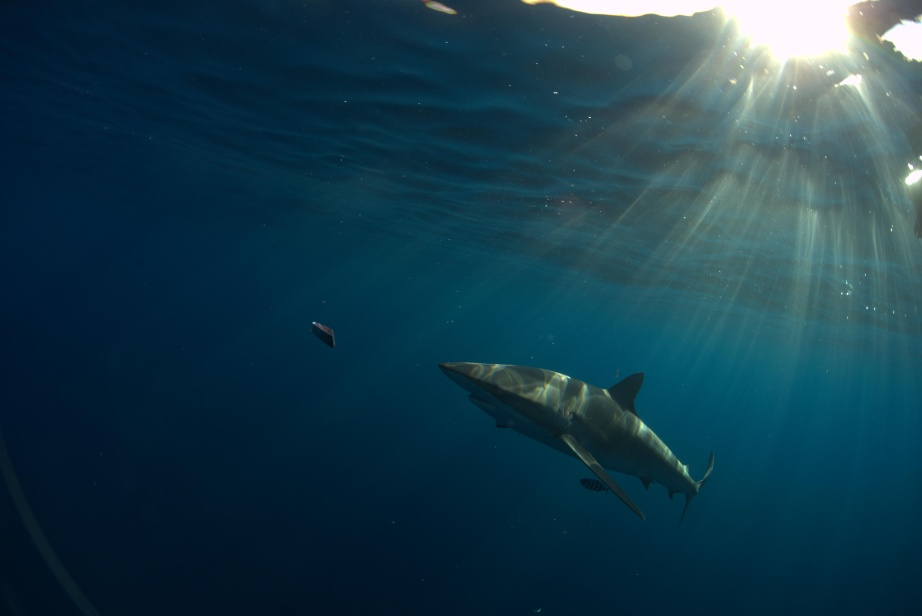Sedoso: (413, 320, 728, 542)
